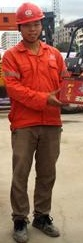boots: (32, 213, 60, 236), (13, 218, 29, 242)
hard-hat: (15, 1, 45, 24)
ppe-suit: (0, 24, 42, 242)
vest: (0, 24, 39, 128)
